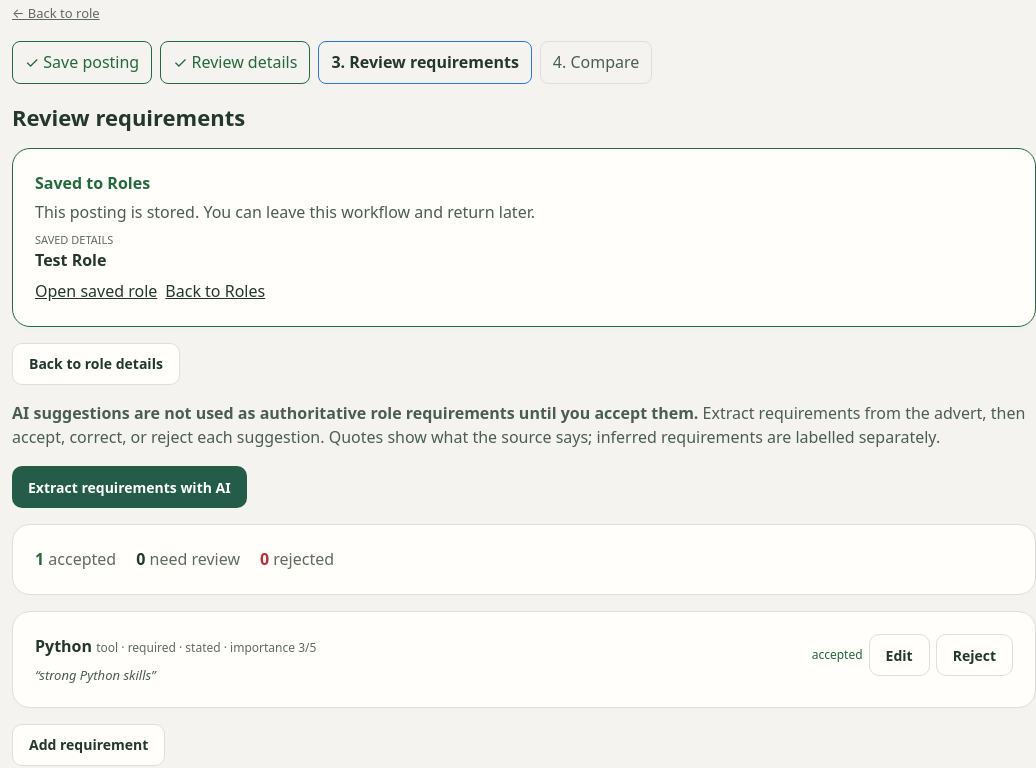
accepted and rejected rows › rejecting an accepted row un-accepts it via the same reject action
The width and height of the screenshot is (1036, 768).
Click the button "Reject" at (974, 655), box 936,634 -> 1013,676
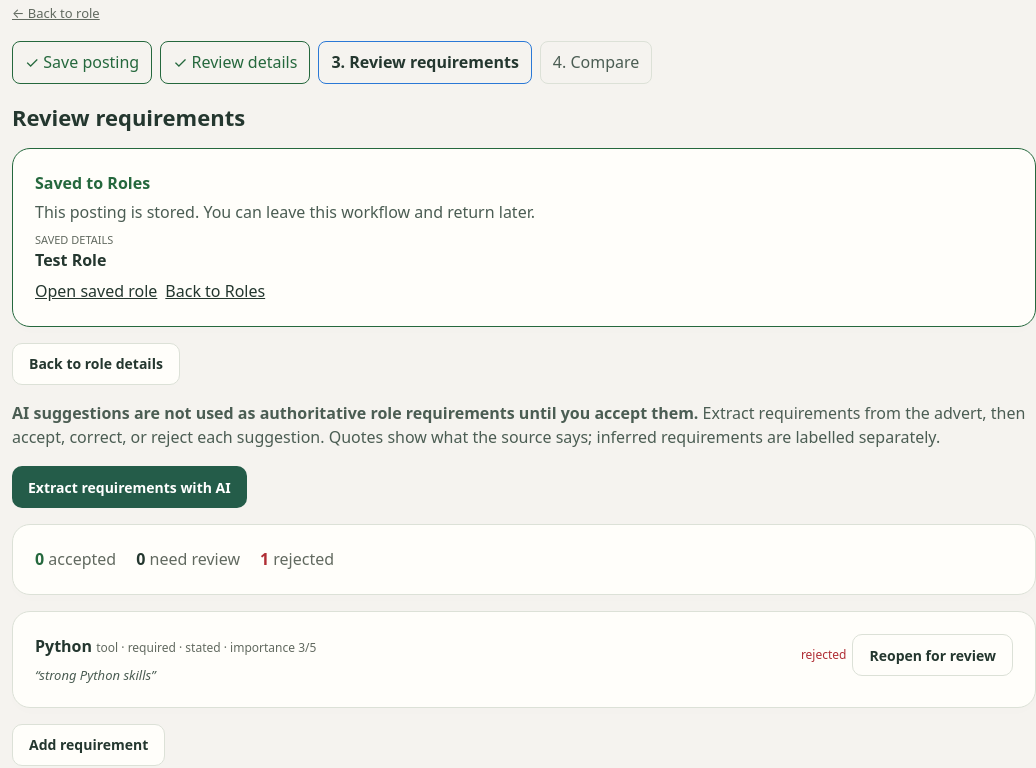
Check: the button "Reopen for review" is shown, box 852,634 -> 1013,676
